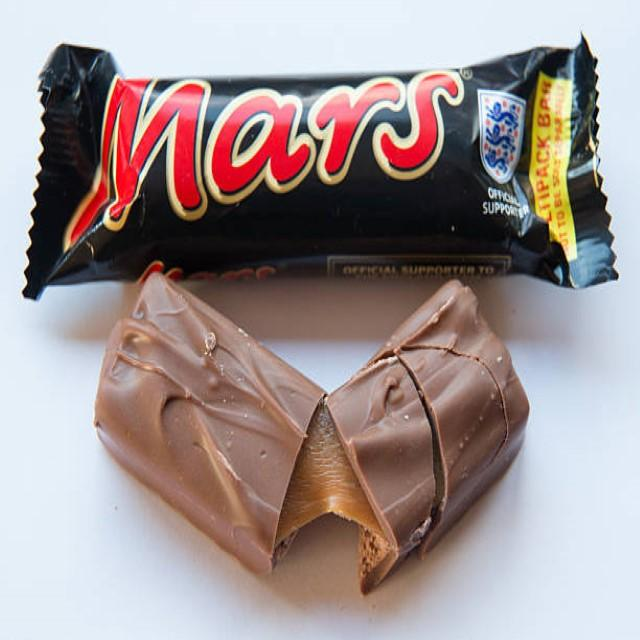mars_chocolate: (91, 61, 640, 303)
